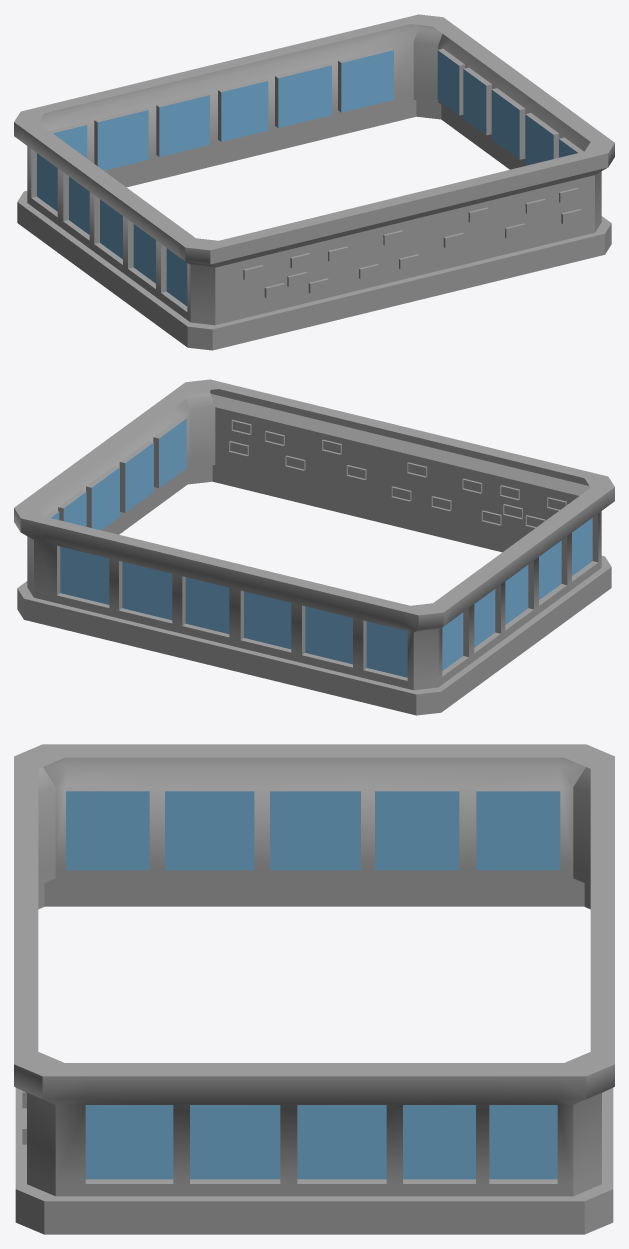
File: Floor_with_bricks.fbx
3 renders of one model, top to bottom at view 1: azimuth 30°, elevation 25°; view 2: azimuth 150°, elevation 25°; view 3: azimuth 270°, elevation 25°, orthographic. The views are drawn at different scales.
Visible parts, largest first — view 1: FloorWithBricks, Windows, Bricks; view 2: FloorWithBricks, Windows, Bricks; view 3: FloorWithBricks, Windows.
Part boxes in pixels (bbox=[...]): FloorWithBricks: bbox=[14, 14, 614, 350]; Windows: bbox=[37, 50, 577, 306]; Bricks: bbox=[243, 187, 581, 298]; FloorWithBricks: bbox=[14, 379, 614, 715]; Windows: bbox=[51, 418, 592, 677]; Bricks: bbox=[229, 420, 566, 527]; FloorWithBricks: bbox=[14, 744, 614, 1234]; Windows: bbox=[66, 791, 560, 1179].
Bounding box in the file's own units: 1776 × 400 × 1358.
